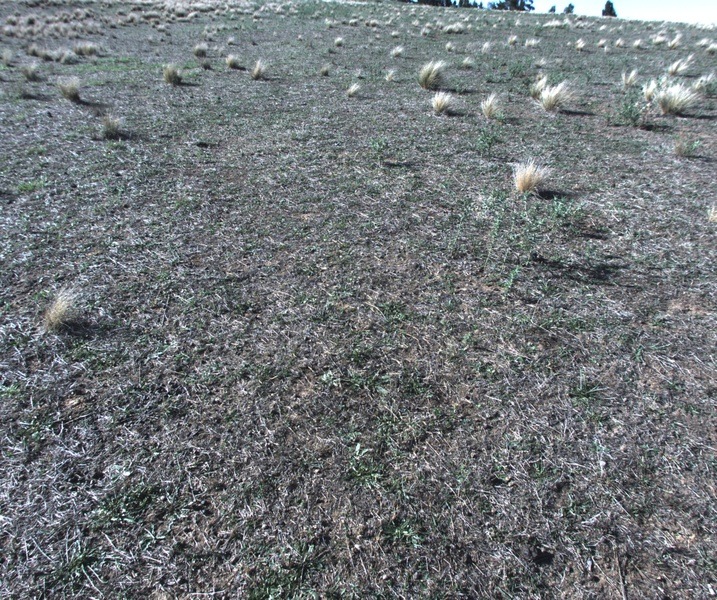st: (36, 290, 86, 333), (508, 157, 555, 194), (97, 109, 133, 144), (539, 80, 572, 114), (417, 55, 447, 91), (660, 89, 696, 118), (664, 56, 698, 79), (481, 93, 506, 121), (54, 79, 81, 103), (247, 58, 271, 84), (428, 93, 452, 118), (46, 44, 77, 63), (161, 64, 183, 86), (222, 50, 245, 71), (194, 38, 215, 61), (622, 67, 641, 91), (641, 79, 662, 98), (21, 66, 45, 82), (378, 66, 396, 87), (525, 37, 548, 53), (530, 79, 546, 101), (388, 44, 406, 62), (74, 40, 97, 54), (23, 42, 43, 57), (342, 82, 359, 99), (482, 39, 497, 56), (445, 21, 462, 36), (597, 35, 610, 54), (613, 33, 625, 52), (334, 34, 347, 51), (318, 63, 334, 76), (461, 53, 471, 70), (575, 36, 585, 53), (507, 33, 519, 47), (534, 58, 542, 70)
